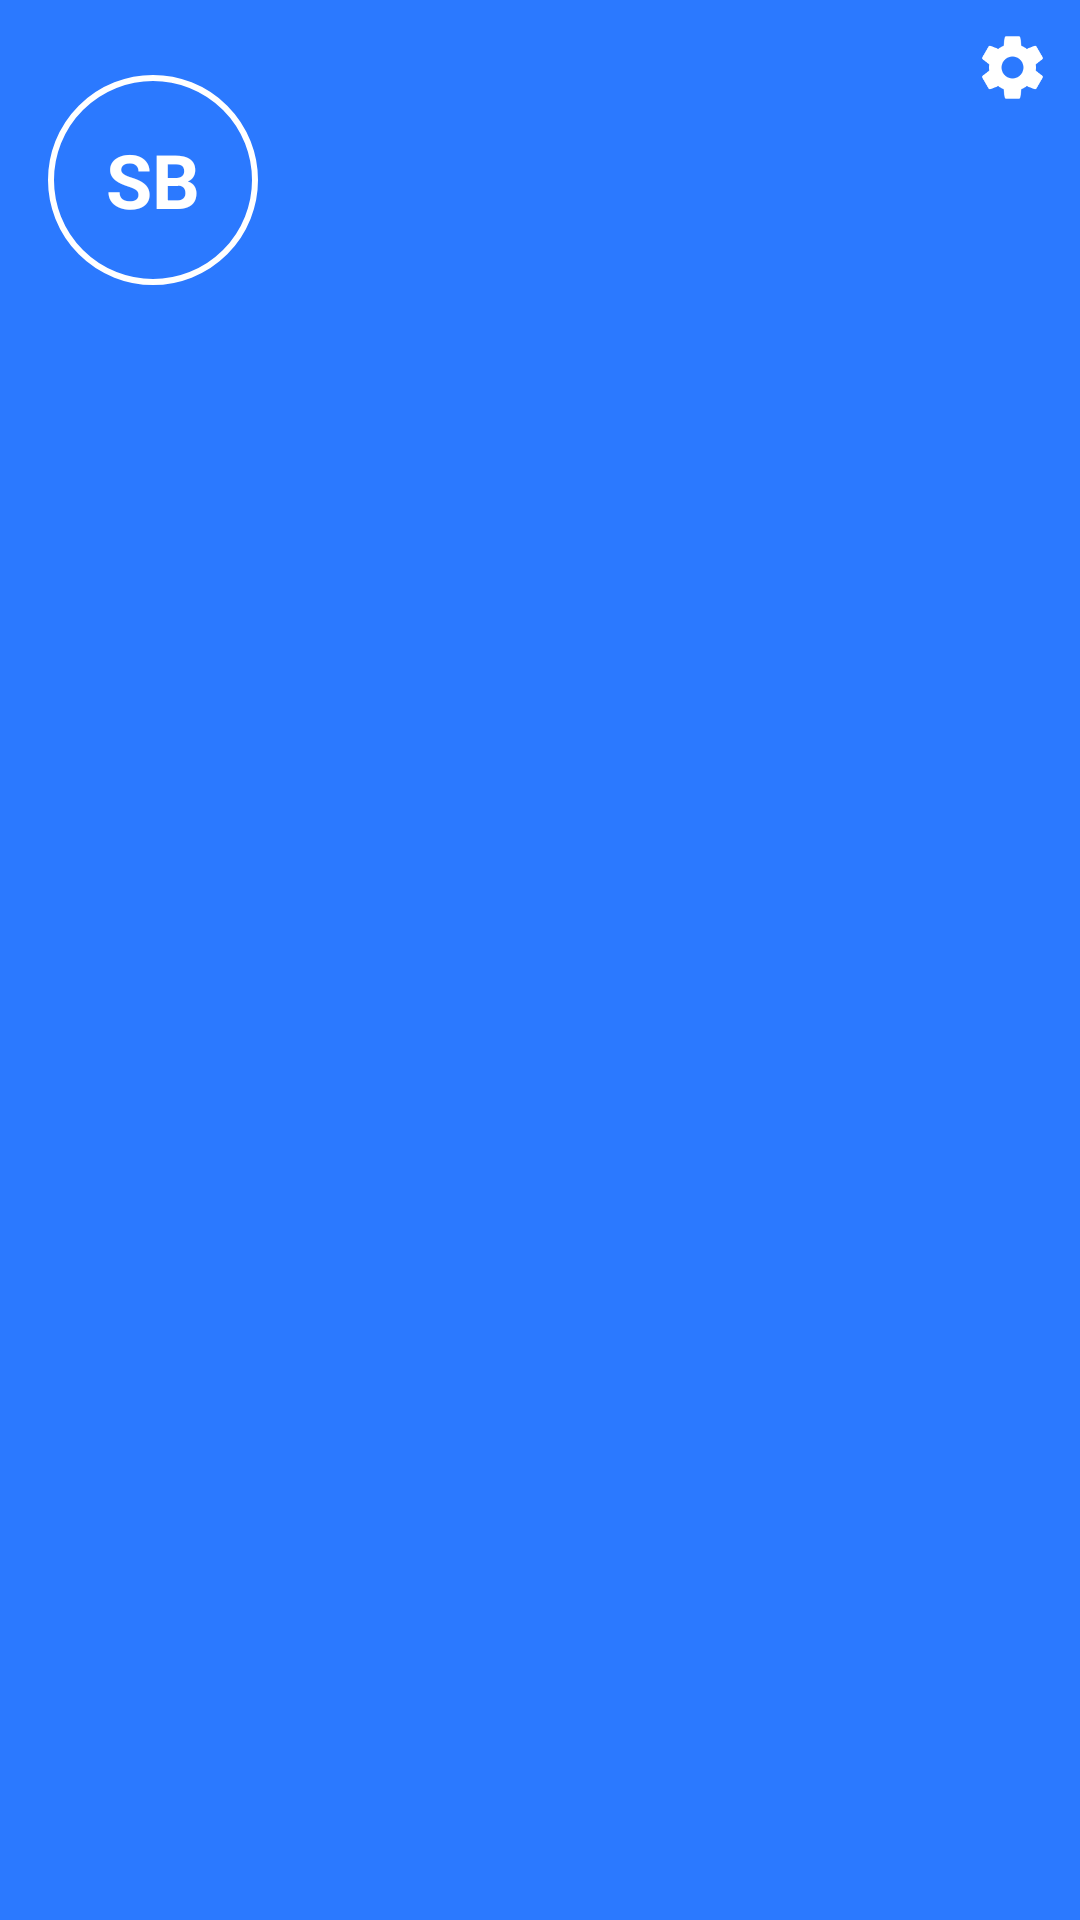

Point at icon controls on the screen. Image size 1080 × 1920, points as point (x, y).
settings: point (1012, 67)
